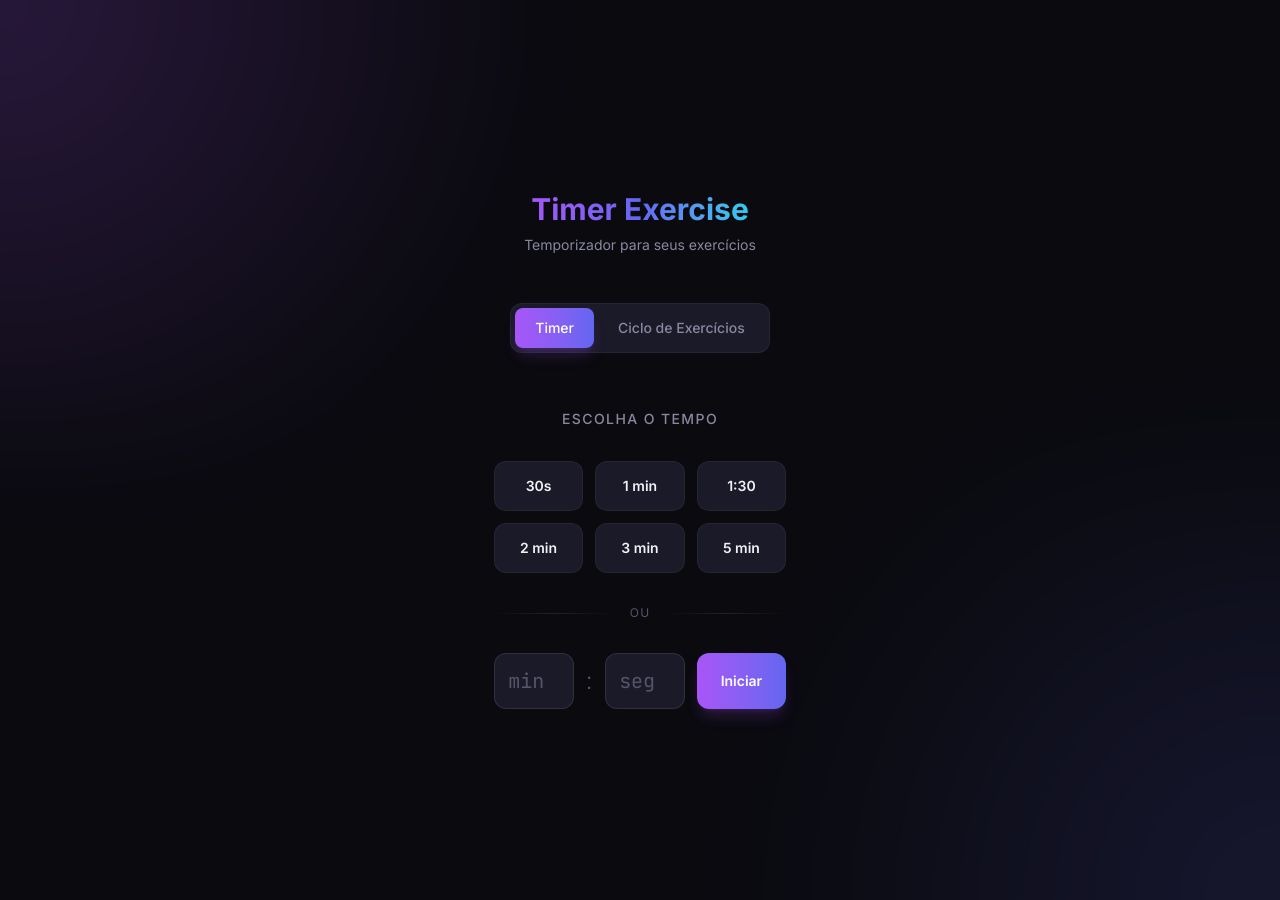
Test case: App (integração) › ao clicar num preset, mostra o timer rodando
The width and height of the screenshot is (1280, 900).
Click the button "1 min" at (640, 486), box x1=595 y1=461 x2=685 y2=511
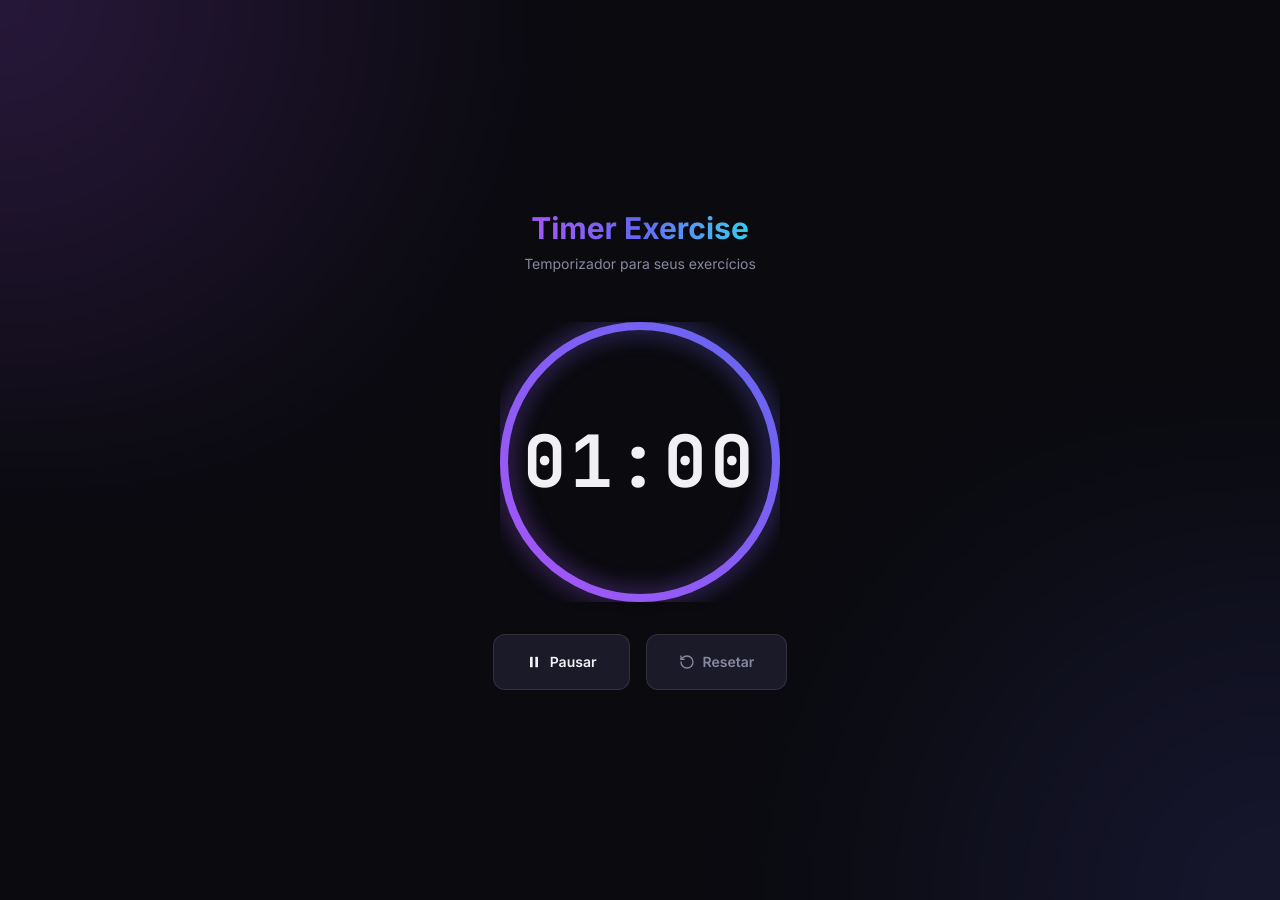
Check: the text "Pausar" is shown, box x1=526 y1=652 x2=596 y2=672
Check: the text "Resetar" is shown, box x1=678 y1=652 x2=754 y2=672
Check: the text "Escolha o tempo" is gone
